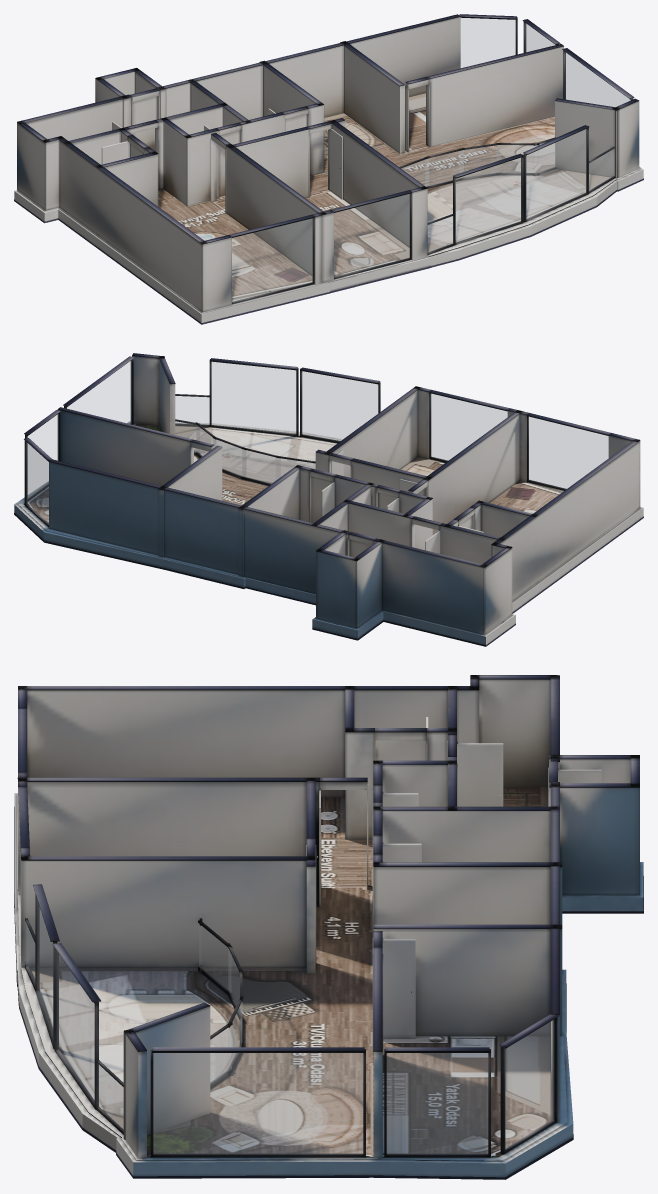
3 views of the same model, one above another, from view 1: azimuth 30°, elevation 25°; view 2: azimuth 150°, elevation 25°; view 3: azimuth 270°, elevation 25° (orthographic). The views are drawn at different scales.
Parts seen in each view (by area): view 1: plan, glass0_m, glass1_m, glass5_m, glass6_m, glass2_m, glass4_m, railg0_m, railg4_m, railg5_m, railg9_m, railg8_m (+1 smaller); view 2: plan, glass6_m, glass0_m, glass5_m, glass1_m, glass4_m, glass3_m, glass2_m, railg0_m, railg8_m, railg4_m; view 3: plan, glass4_m, glass3_m, glass2_m, glass6_m, glass5_m, railg2_m, railg8_m, railg5_m.
Part boxes in pixels (x1,y1,x2,y2): plan: (14,14,643,324); glass0_m: (232,218,312,301); glass1_m: (334,194,409,276); glass5_m: (456,158,521,242); glass6_m: (526,129,586,218); glass2_m: (461,18,515,67); glass4_m: (565,52,630,106); railg0_m: (425,150,463,186); railg4_m: (459,145,500,177); railg5_m: (497,145,538,172); railg9_m: (428,216,453,252); railg8_m: (589,149,614,190); plan: (14,353,643,646); glass6_m: (211,362,295,433); glass0_m: (528,417,608,488); glass5_m: (302,371,377,440); glass1_m: (431,394,507,460); glass4_m: (67,360,131,423); glass3_m: (28,414,58,498); glass2_m: (27,443,48,524); railg0_m: (242,449,280,483); railg8_m: (175,396,209,424); railg4_m: (213,438,246,477); plan: (14,675,643,1179); glass4_m: (153,1053,362,1154); glass3_m: (387,1053,487,1154); glass2_m: (505,1020,553,1149); glass6_m: (57,952,94,1101); glass5_m: (37,901,52,1037); railg2_m: (199,924,230,992); railg8_m: (98,1064,123,1129); railg5_m: (210,1025,231,1082).
Bounding box in the file's own units: 17.17 × 2.62 × 11.98.
Materials: 2 (1 with a texture image).
